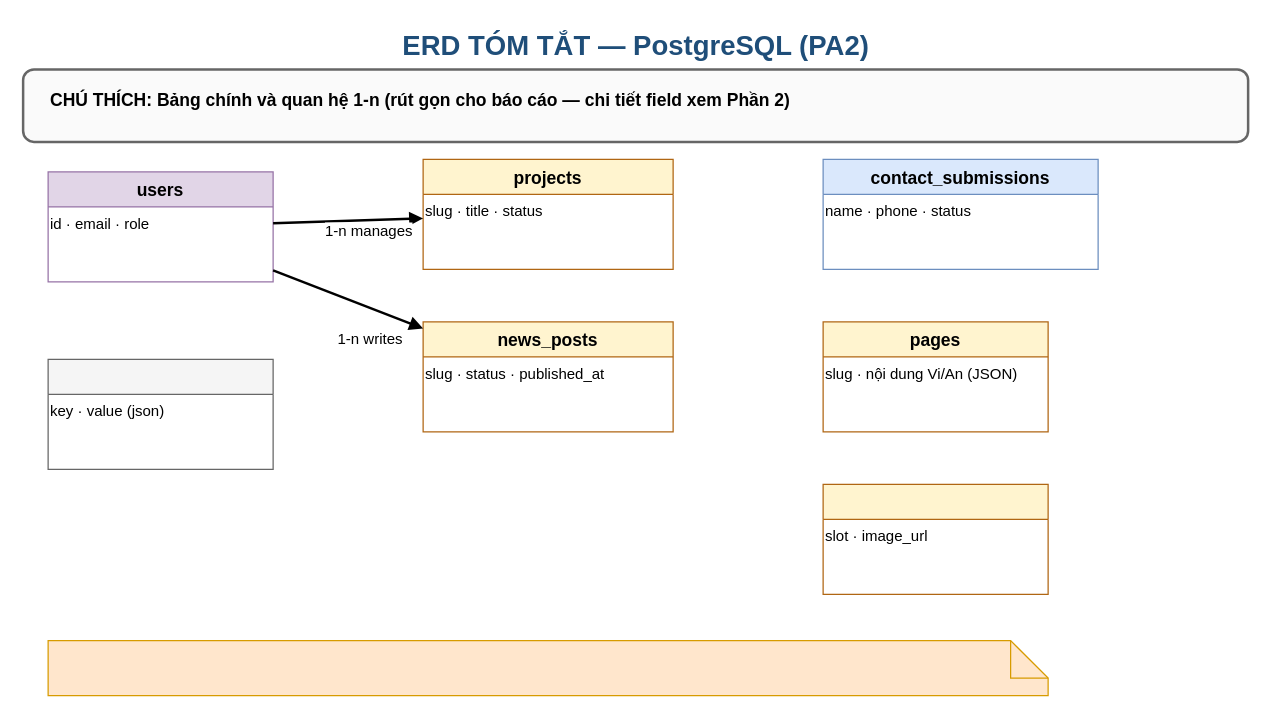
Some shapes in this 1270 by 718 pixel diagram are drawn without their labels. The box of each missing label's shape, as (x1, y1, x2, y2) in pixels:
banners: (822, 483, 1048, 594)
Ghi chú: scheduled_at trên news_posts phục vụ đặt lịch đăng bài Phase 2.: (47, 639, 1048, 696)
site_settings: (47, 358, 273, 469)
